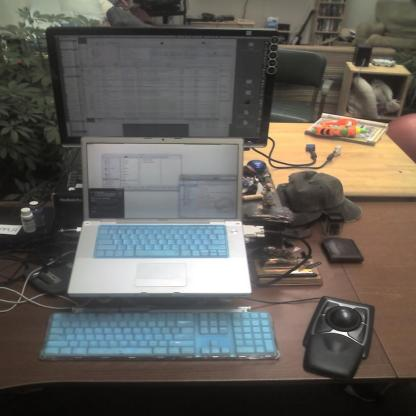board: (79, 134, 253, 298)
